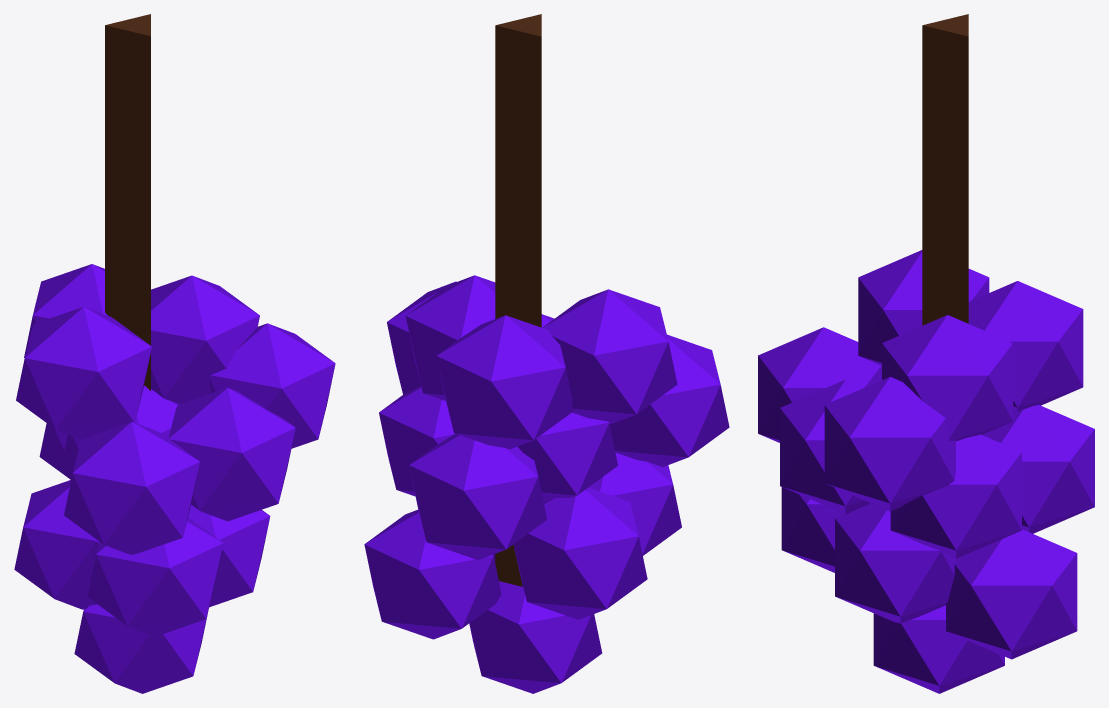
Rendered from RedGrape.fbx.
3 views of the same model, side by side, from view 1: azimuth 30°, elevation 25°; view 2: azimuth 150°, elevation 25°; view 3: azimuth 270°, elevation 25° (orthographic).
Visible parts, largest first — view 1: Icosphere.013; view 2: Icosphere.013; view 3: Icosphere.013.
Boxes of the visible parts, x1,y1,x2,y2 form: Icosphere.013: (14,14,335,693); Icosphere.013: (364,14,729,693); Icosphere.013: (758,14,1094,693).
Size of the model in its own units: 210 by 464 by 212.
